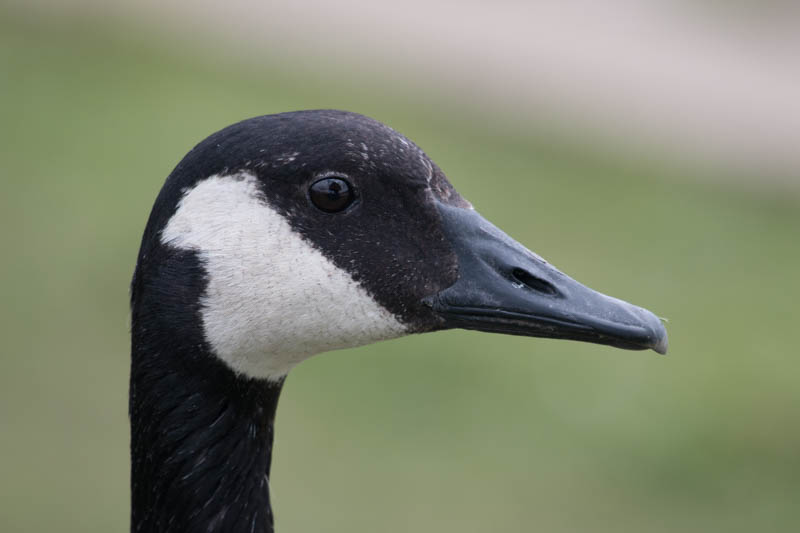goose-head: (130, 109, 670, 385)
